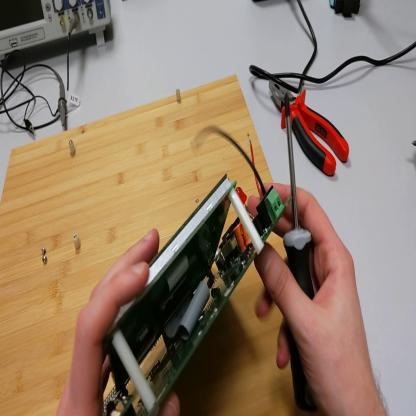hand: (250, 180, 377, 413), (60, 231, 181, 414)
low voltage board: (104, 134, 294, 416)
oscilloscope: (1, 1, 114, 68)
oscilloscope probe tip: (56, 71, 70, 138)
pliers: (268, 77, 351, 175)
screwdriver-: (285, 94, 318, 412)
welder base: (329, 2, 360, 24)
working area: (2, 65, 267, 415)
